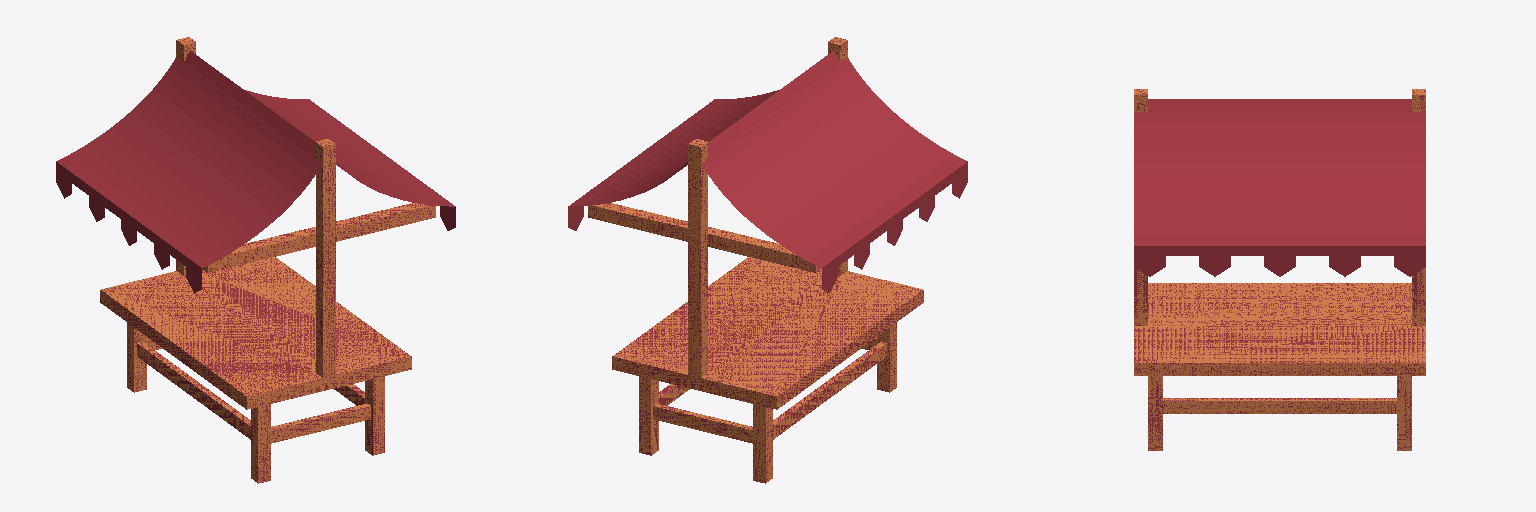
File: stallRed.obj
The picture shows the model from 3 angles: view 1: azimuth 30°, elevation 25°; view 2: azimuth 150°, elevation 25°; view 3: azimuth 270°, elevation 25°; orthographic projection.
Parts seen in each view (by area): view 1: stallRed; view 2: stallRed; view 3: stallRed.
Part boxes in pixels (x1,y1,x2,y2): stallRed: (56, 37, 455, 483); stallRed: (568, 37, 967, 483); stallRed: (1134, 89, 1425, 450).
Bounding box in the file's own units: 1 × 1.24 × 1.